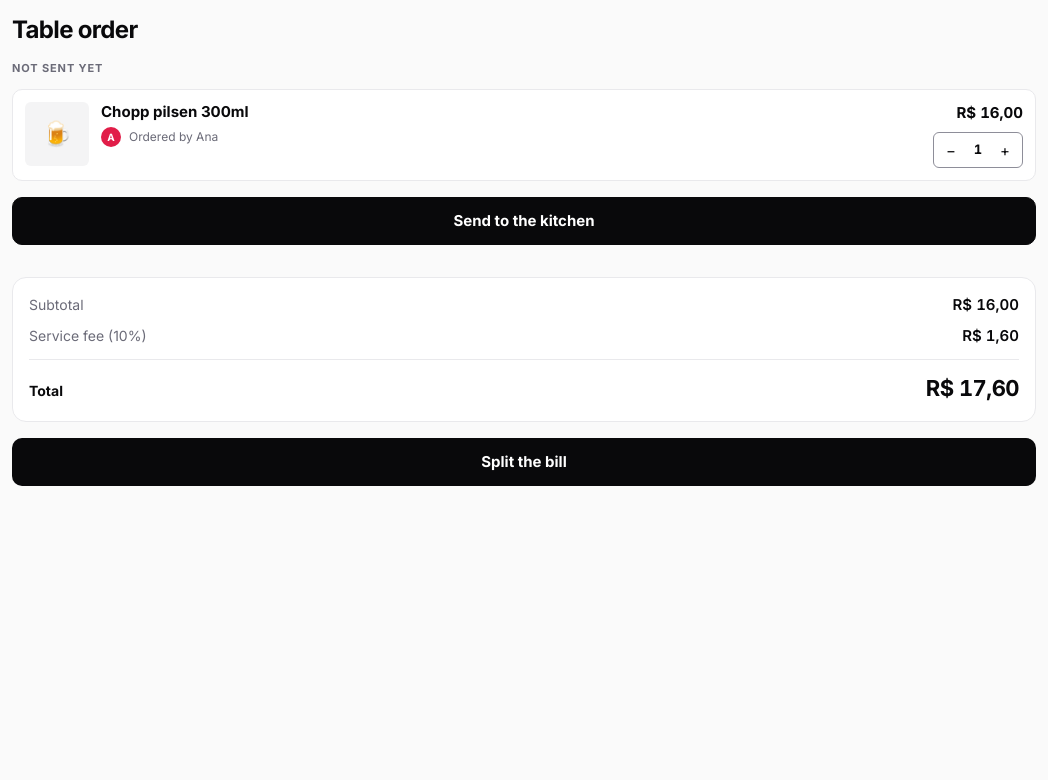
Test: OrderPage › sends the order to the kitchen and says so
Click the button "Send to the kitchen".
click(524, 221)  # box [12,197,1036,245]
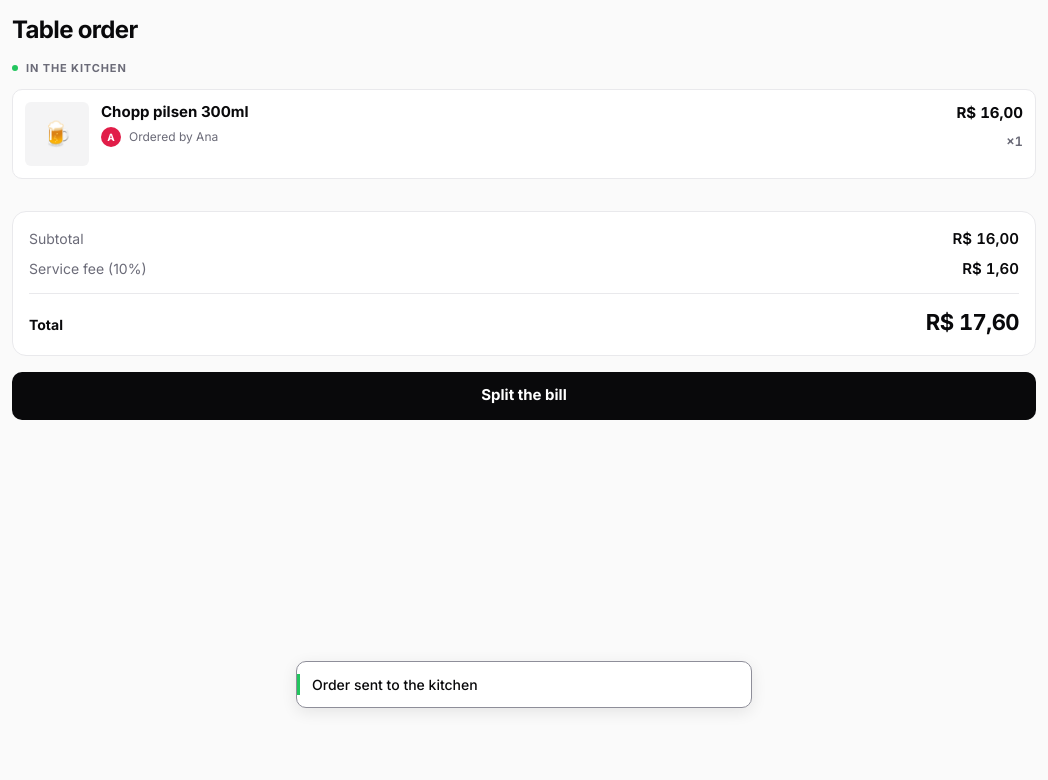
Check: the message reads "Order sent to the kitchen", box [312,676,478,693]
Check: the heading "In the kitchen" is shown, box [12,61,127,75]
Check: the button "Send to the kitchen" is gone
